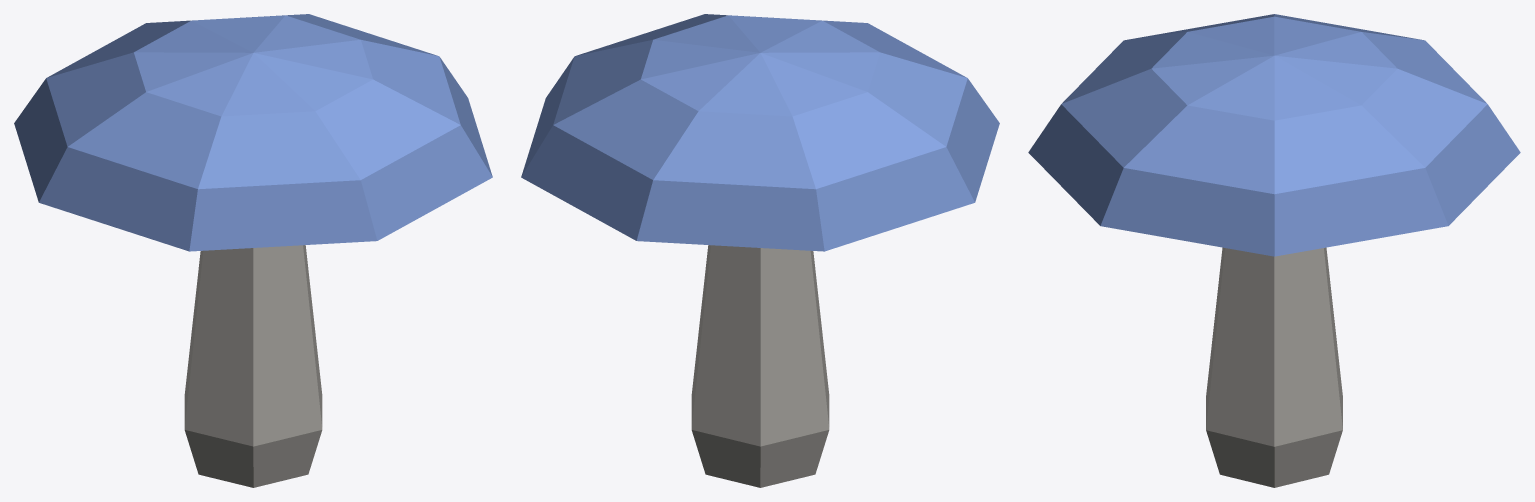
File: GlowShroom1Round.fbx
3 renders of one model, left to right at view 1: azimuth 30°, elevation 25°; view 2: azimuth 150°, elevation 25°; view 3: azimuth 270°, elevation 25°, orthographic.
Visible parts, largest first — view 1: GlowShroom1Round; view 2: GlowShroom1Round; view 3: GlowShroom1Round.
Boxes of the visible parts, bbox=[...] form: GlowShroom1Round: bbox=[14, 14, 492, 487]; GlowShroom1Round: bbox=[521, 14, 999, 487]; GlowShroom1Round: bbox=[1028, 14, 1520, 487].
Size of the model in its own units: 9.26 by 8.42 by 9.26.
